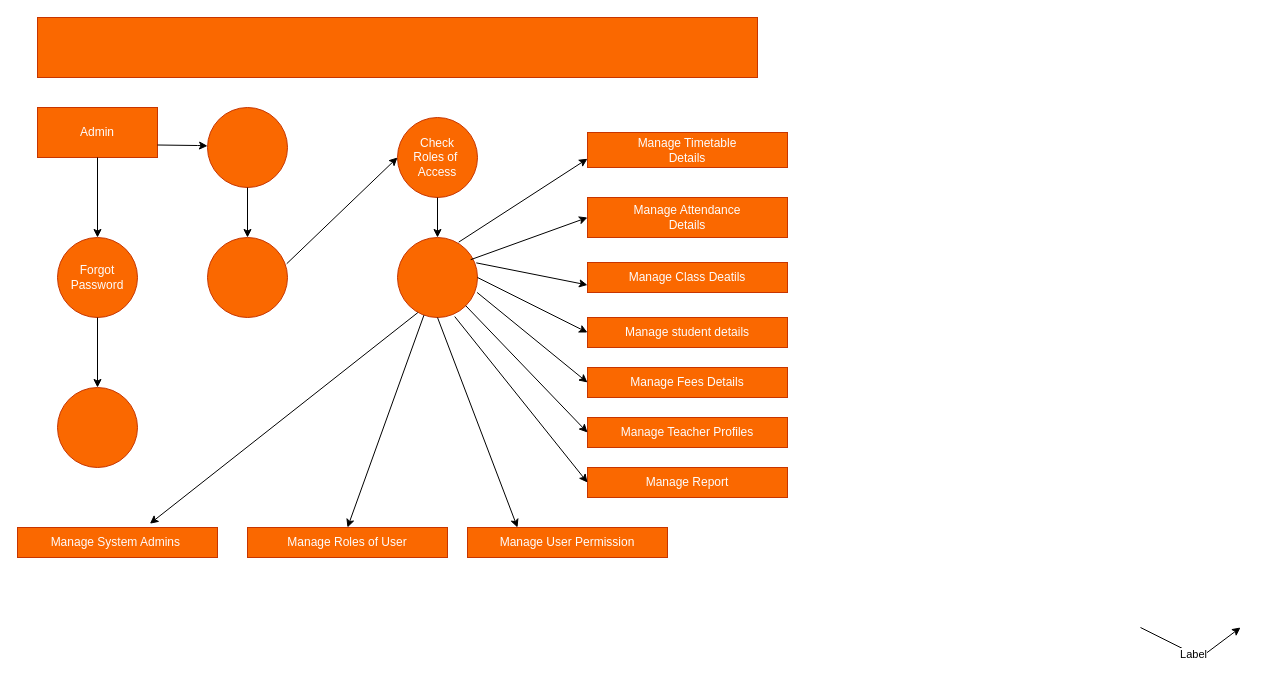
Some shapes in this 1266 by 683 pixel diagram are drawn without their labels. Each missing label, with the centre of its shape:
"Check Crdentials" goes at pixel 247 277.
"Login to System" goes at pixel 247 147.
"Manage Modules" goes at pixel 437 277.
"Send Email to User" goes at pixel 97 427.
"STUDENT INFORMATION SYSTEM" goes at pixel 397 47.
